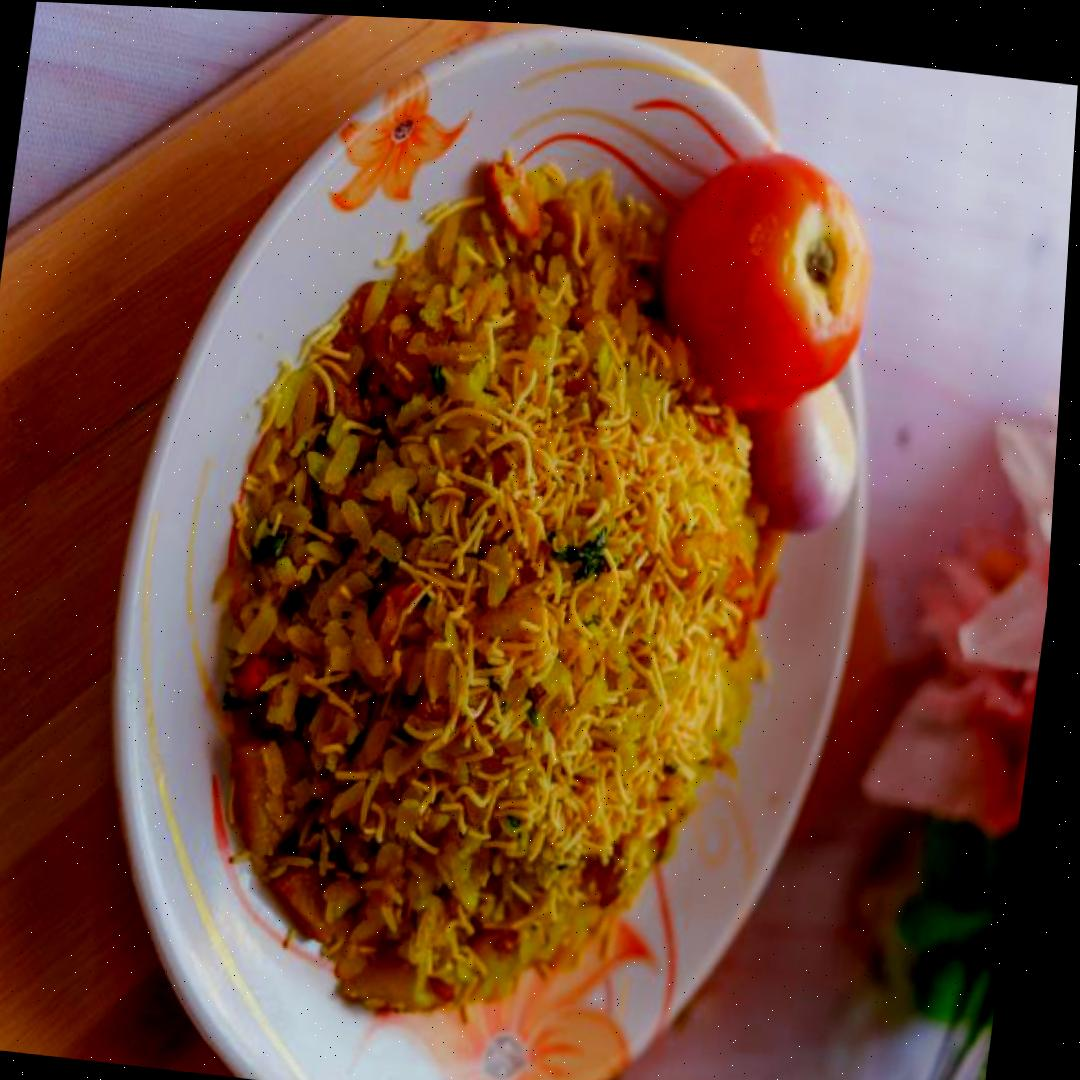matang: (644, 141, 885, 417)
